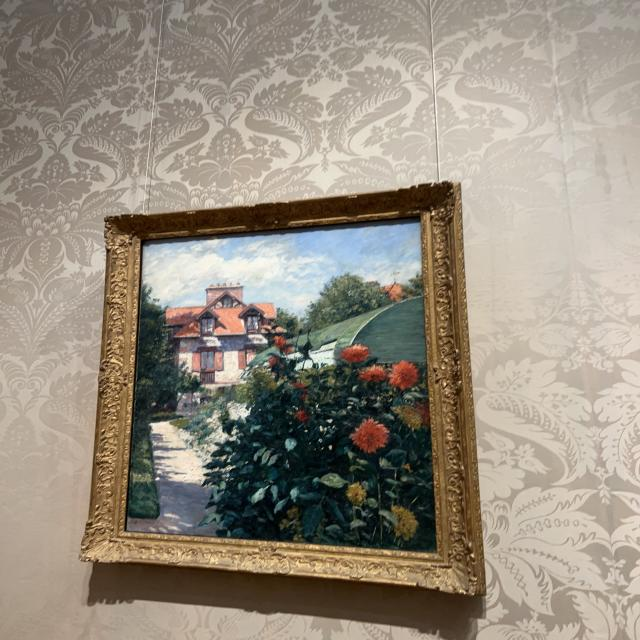summer: (131, 222, 428, 546)
